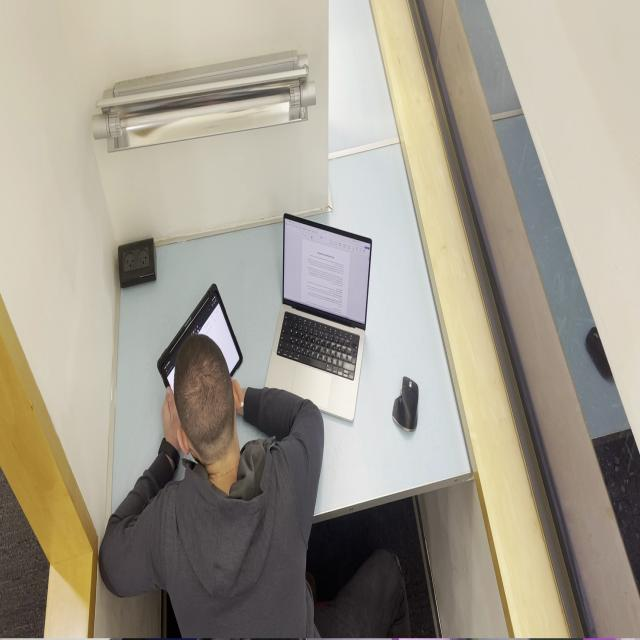bag: (156, 281, 246, 401)
ipad: (97, 334, 410, 638)
laptop: (264, 212, 372, 423)
mouse: (386, 374, 425, 438)
